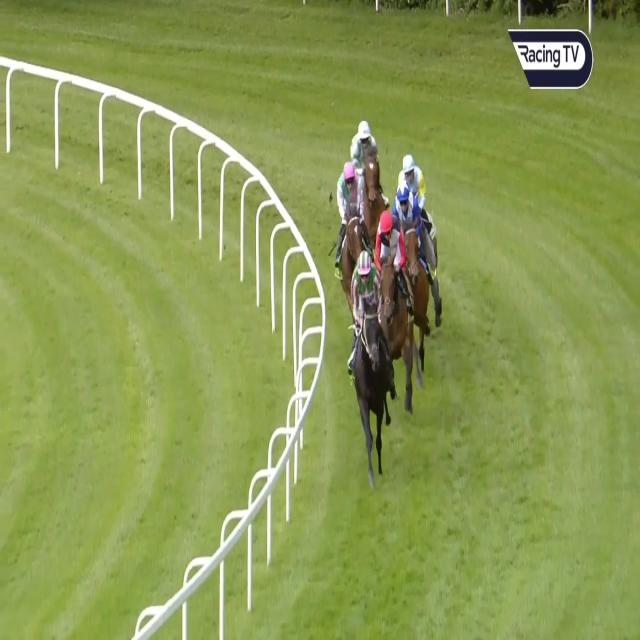horses-racing: (374, 206, 426, 409), (350, 251, 392, 456), (351, 118, 387, 228), (335, 169, 367, 276), (393, 188, 427, 284), (396, 152, 425, 201)
